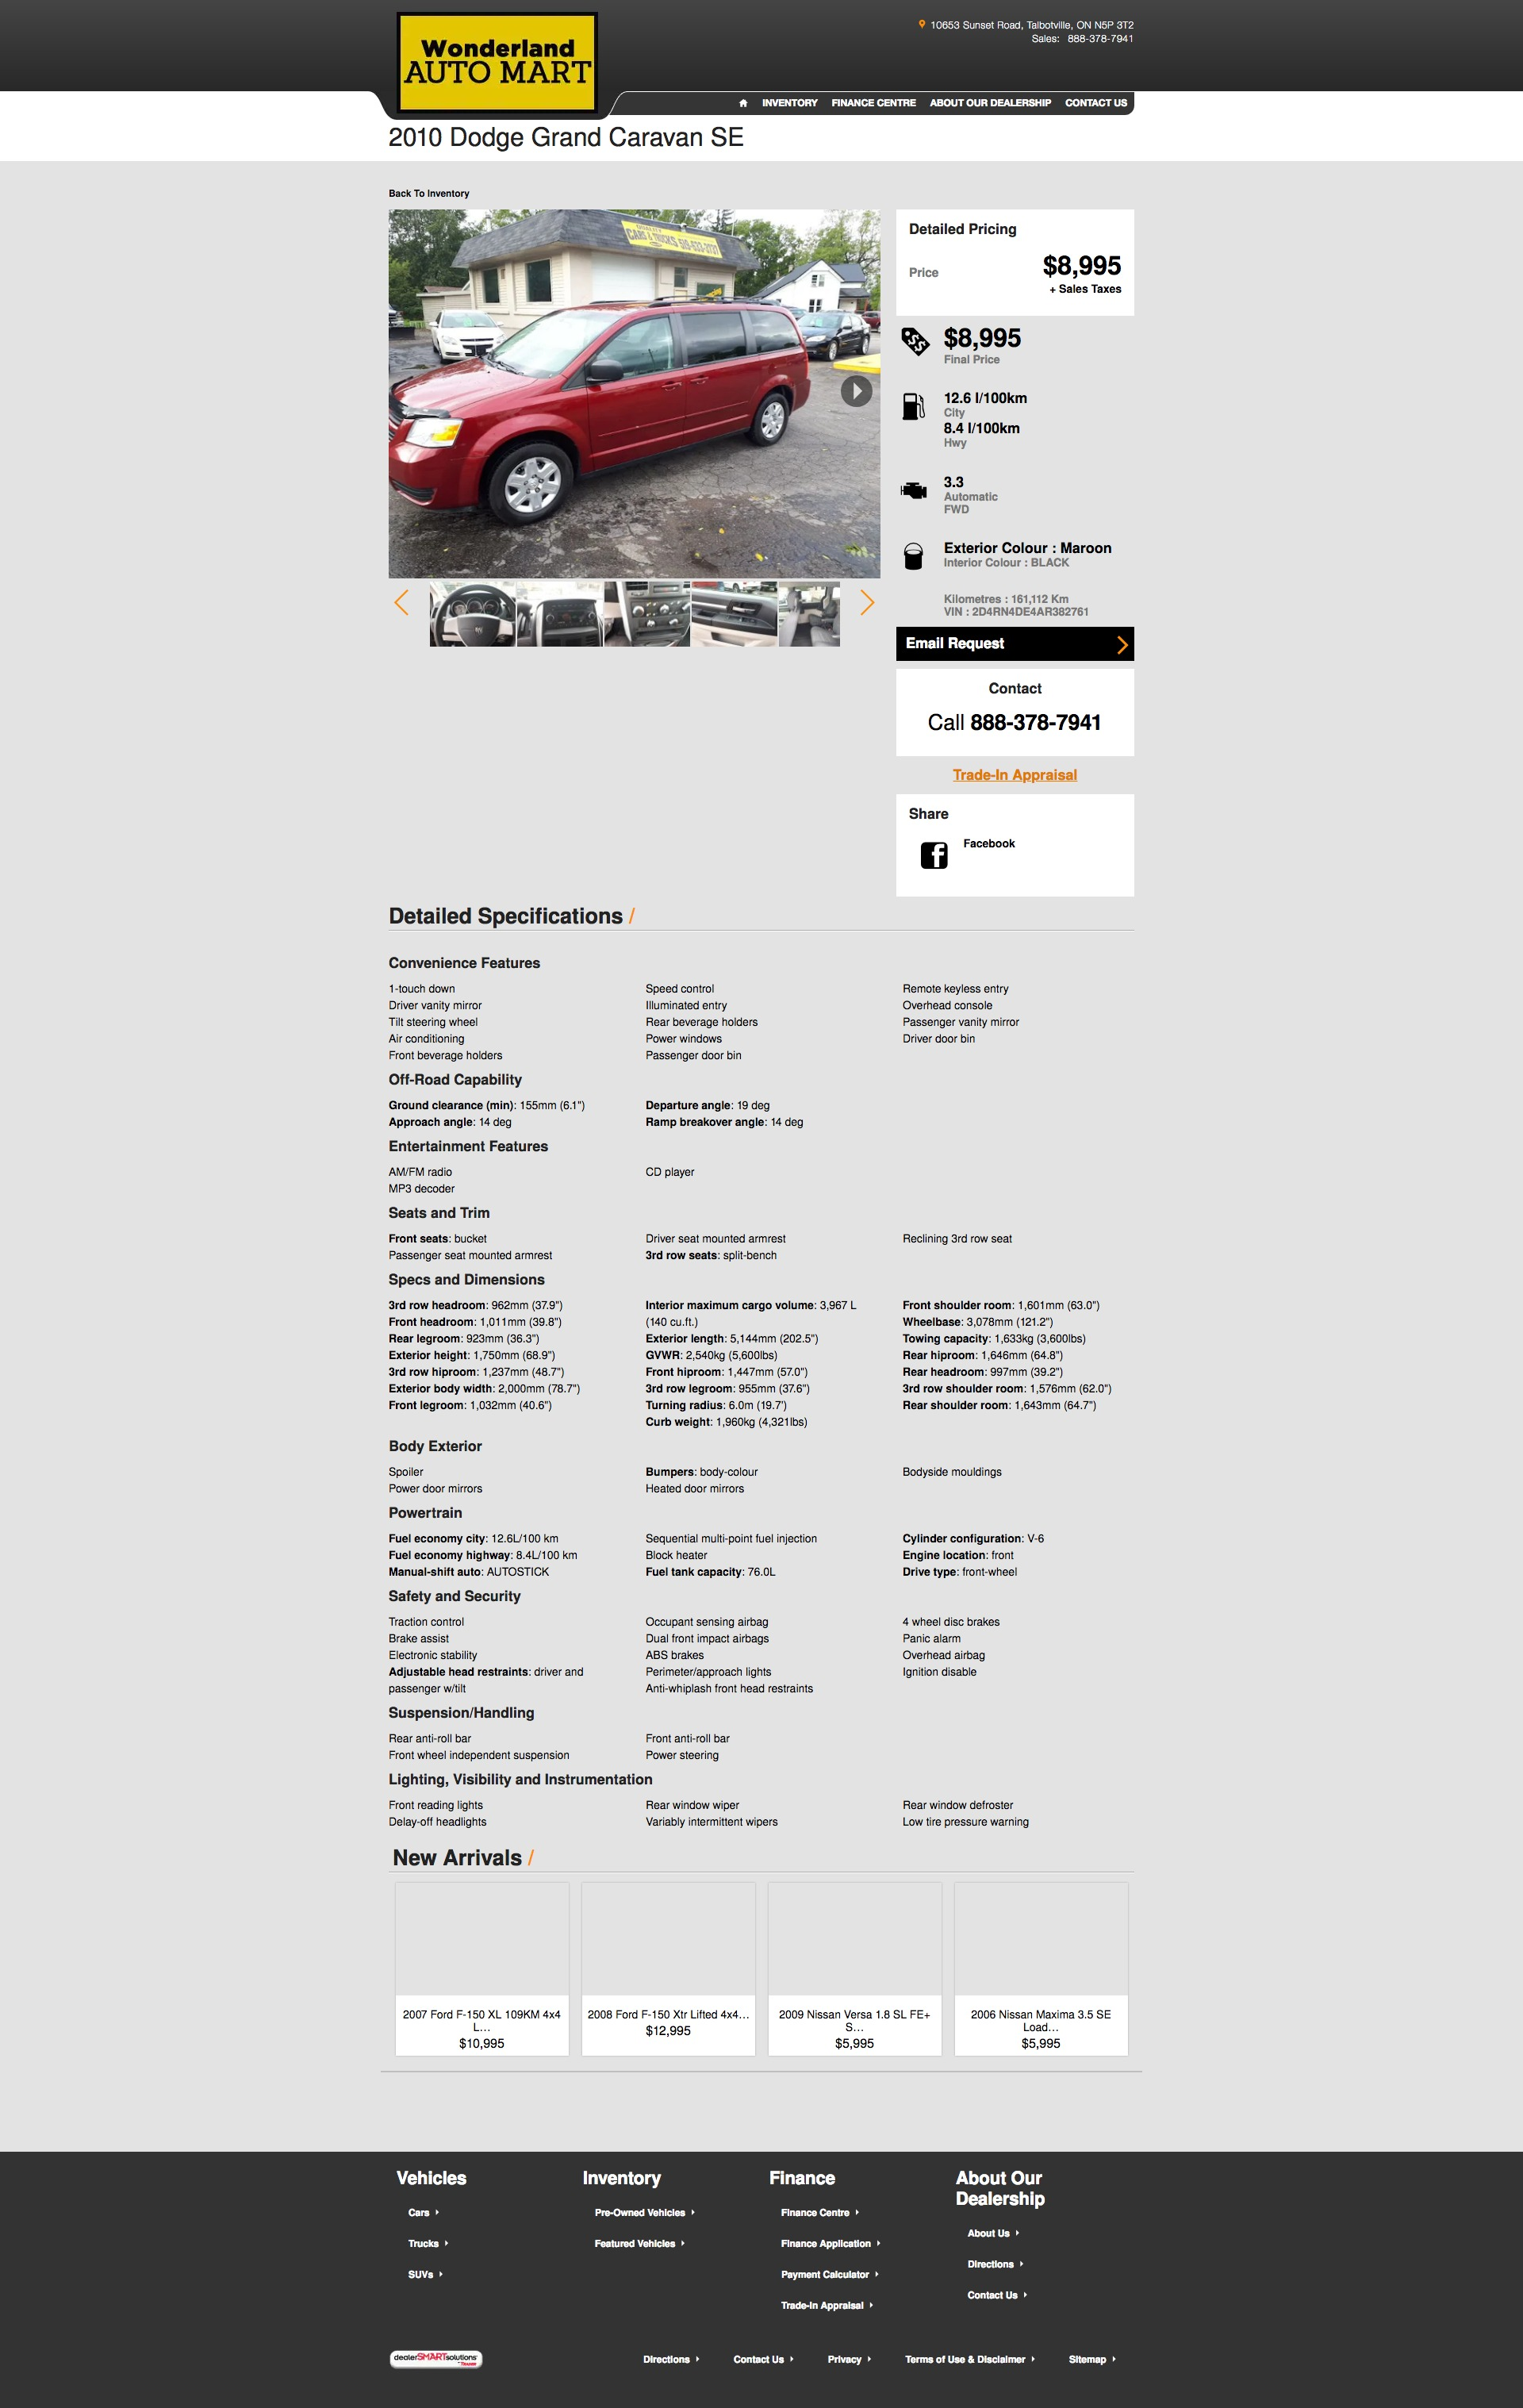car: (860, 588, 877, 616)
